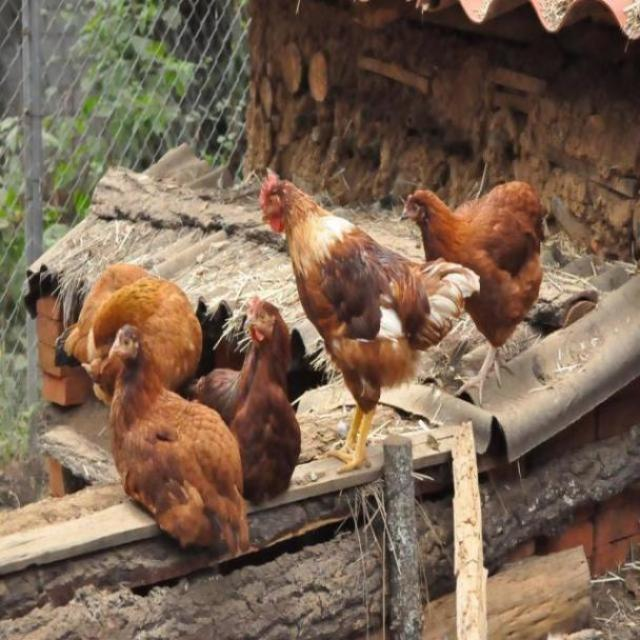Chicken: (256, 172, 458, 457), (98, 325, 250, 559), (400, 177, 549, 407), (191, 299, 301, 501), (54, 265, 201, 405)
